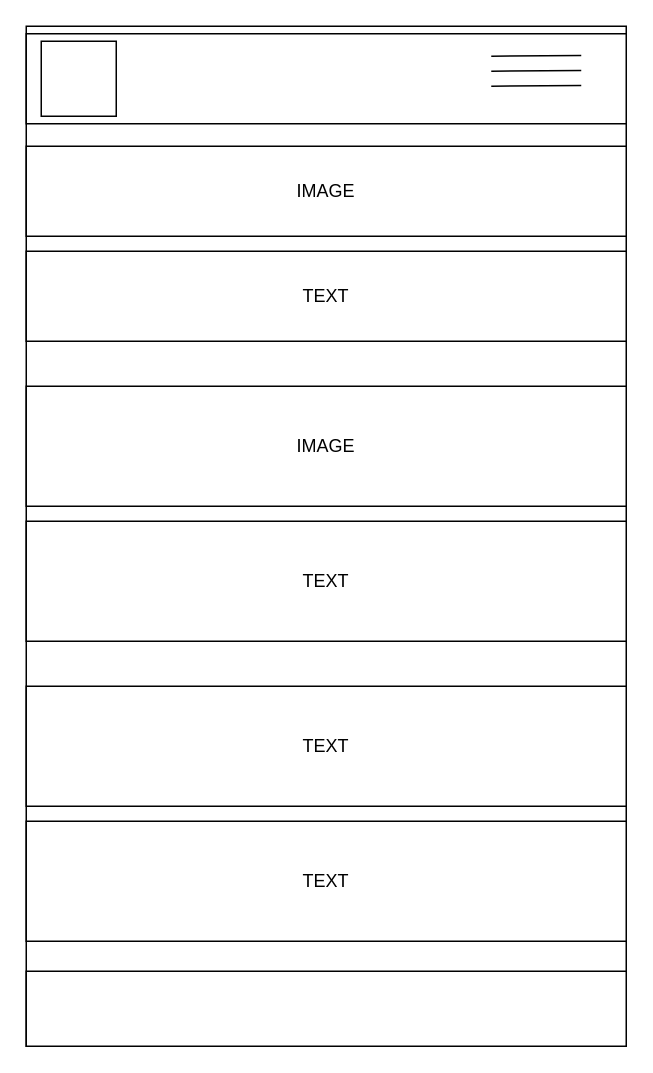
Some shapes in this 653 by 1073 pixel diagram are drawn without their labels. Here are the shapes that lost their labels. From the top down, the box of each, then its label:
(40, 40, 116, 116): Logo
(25, 970, 626, 1046): FOOTER
